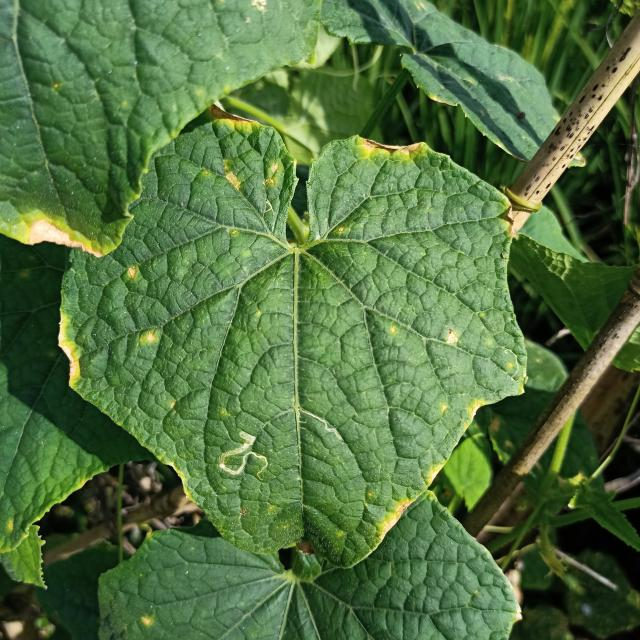disease_cucumber: (203, 96, 283, 194), (440, 393, 488, 419), (445, 330, 459, 351), (144, 328, 156, 346), (127, 264, 136, 282)
